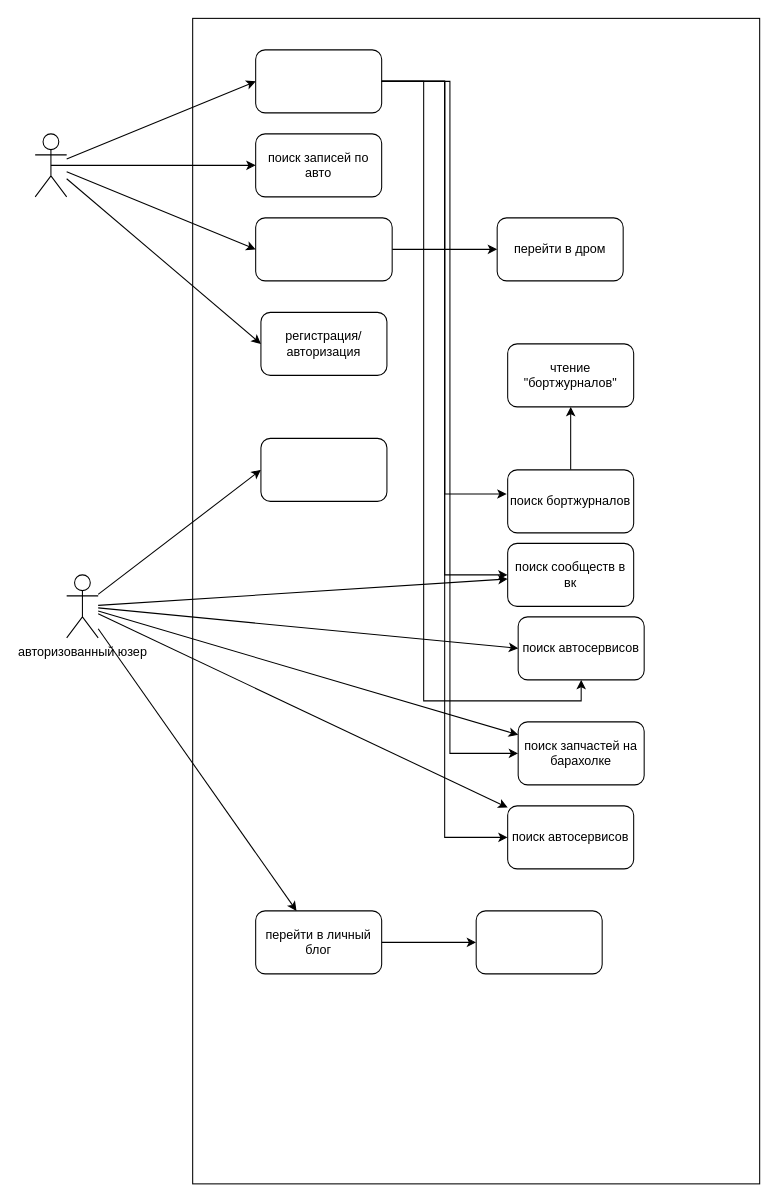
Some shapes in this 778 by 1202 pixel diagram are drawn without their labels. The centre of each missing label's shape, as x and y in pixels:
"гость" belongs at (50,165).
"написать блог" belongs at (538,942).
"поиск машин в продаже" belongs at (323,249).
"поиск по ключевым словам" belongs at (318,81).
"чтение персональной ленты" belongs at (323,469).
